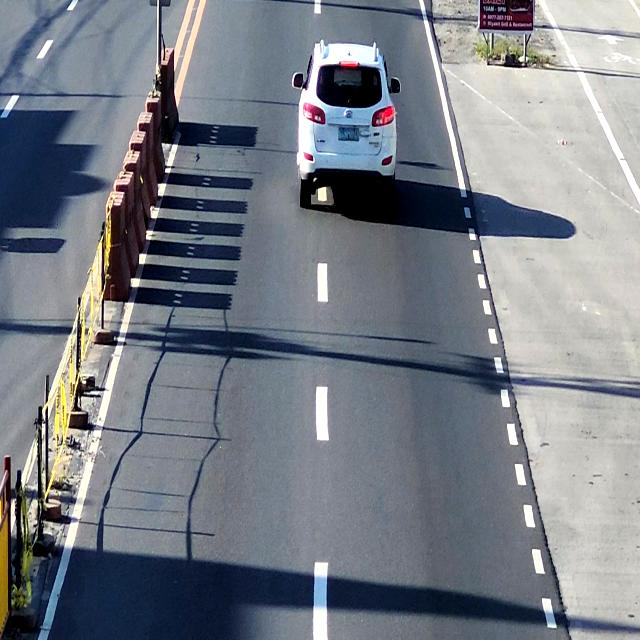Car: (297, 45, 398, 211)
License-Plate: (337, 126, 359, 143)
